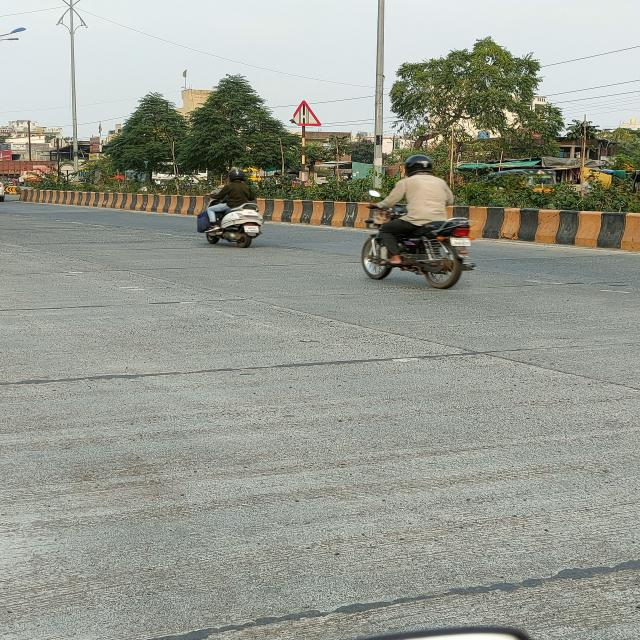GAP_IN_MEDIAN: (290, 100, 322, 127)
